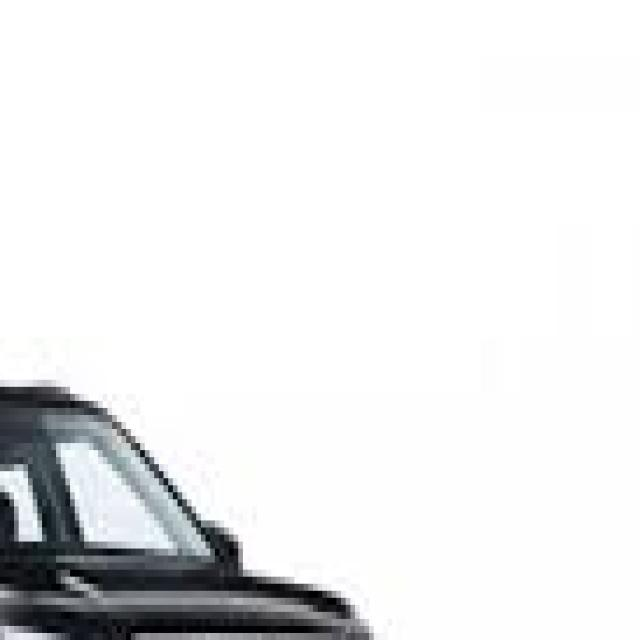car: (0, 260, 467, 640)
